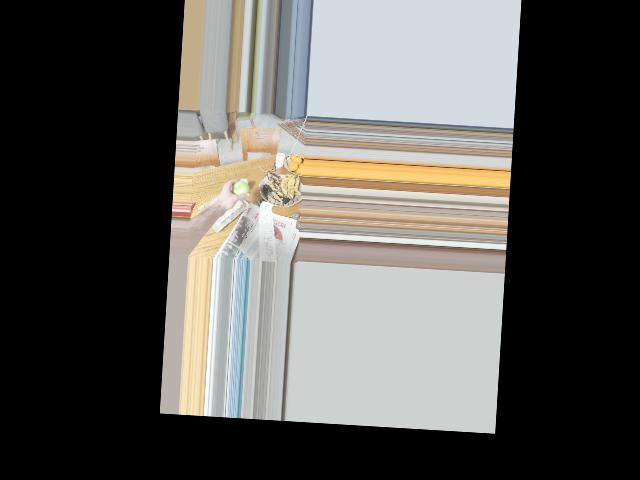apple: (226, 179, 249, 198)
